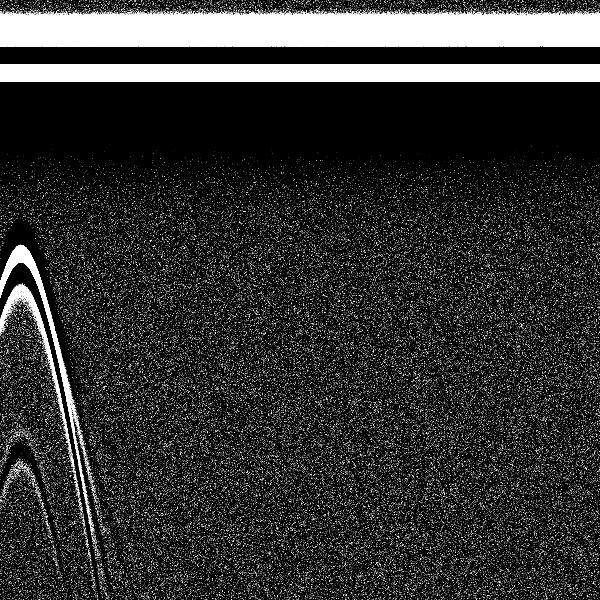pipe: (1, 7, 63, 328)
